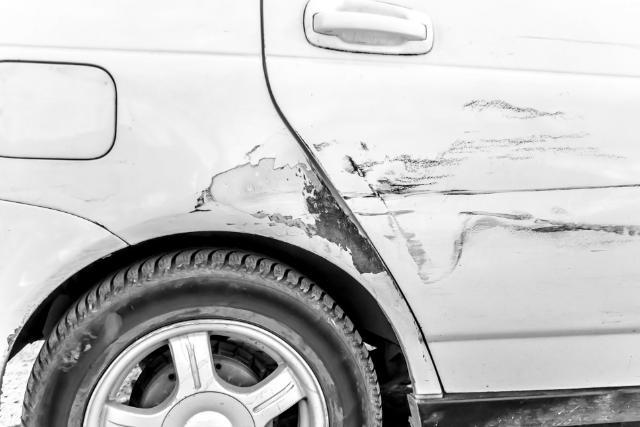Door: (265, 65, 640, 336)
Fender: (135, 122, 405, 296)
